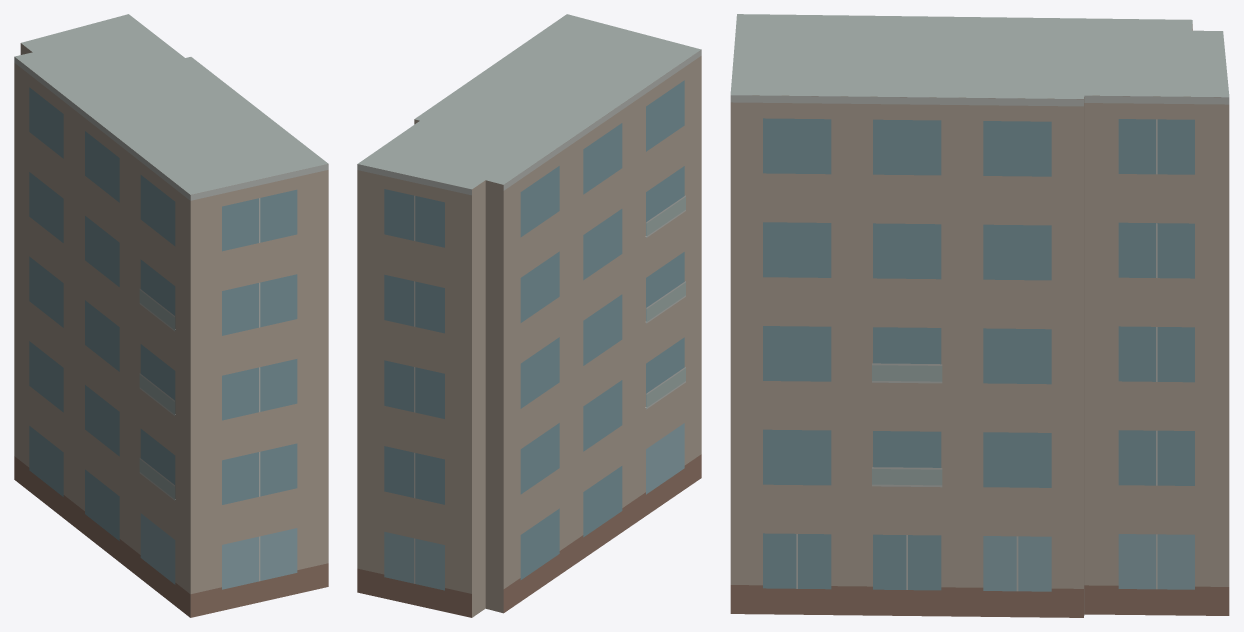
The model's file is survey-upis-32576934.glb.
3 views of the same model, side by side, from view 1: azimuth 30°, elevation 25°; view 2: azimuth 150°, elevation 25°; view 3: azimuth 270°, elevation 25° (orthographic). The views are drawn at different scales.
Visible parts, largest first — view 1: survey-upis-32576934.tmp; view 2: survey-upis-32576934.tmp; view 3: survey-upis-32576934.tmp.
Part boxes in pixels (x1,y1,x2,y2): survey-upis-32576934.tmp: [14, 14, 328, 617]; survey-upis-32576934.tmp: [357, 14, 701, 617]; survey-upis-32576934.tmp: [730, 14, 1229, 617].
Size of the model in its own units: 6.08 by 17.26 by 15.06.
